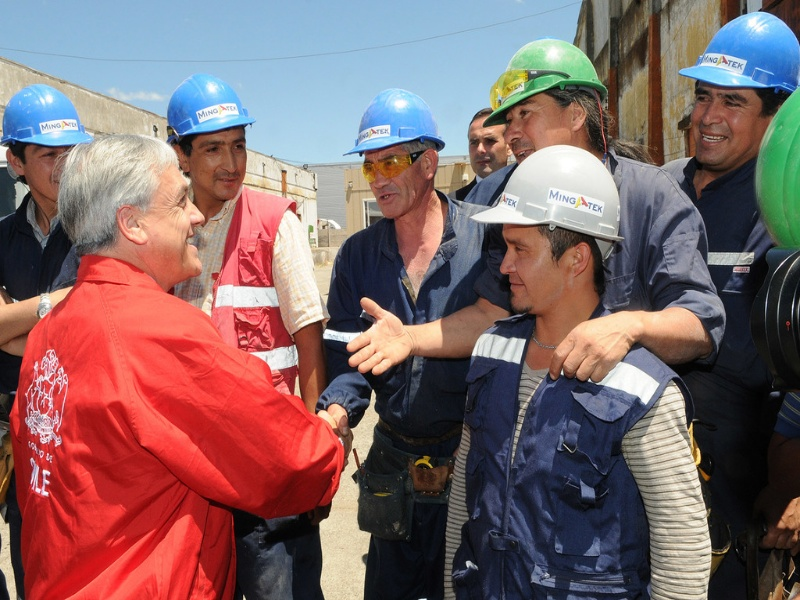baret: (468, 146, 621, 263), (482, 35, 607, 133), (680, 11, 797, 101), (344, 90, 447, 168), (166, 72, 252, 149), (3, 82, 94, 148)
